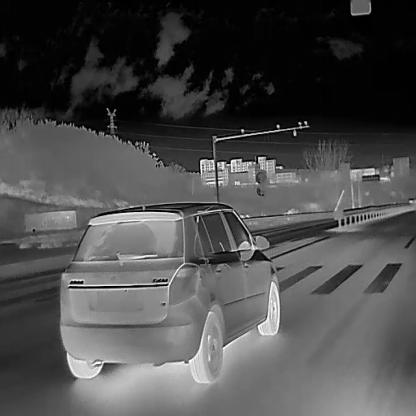car: (59, 200, 280, 384)
